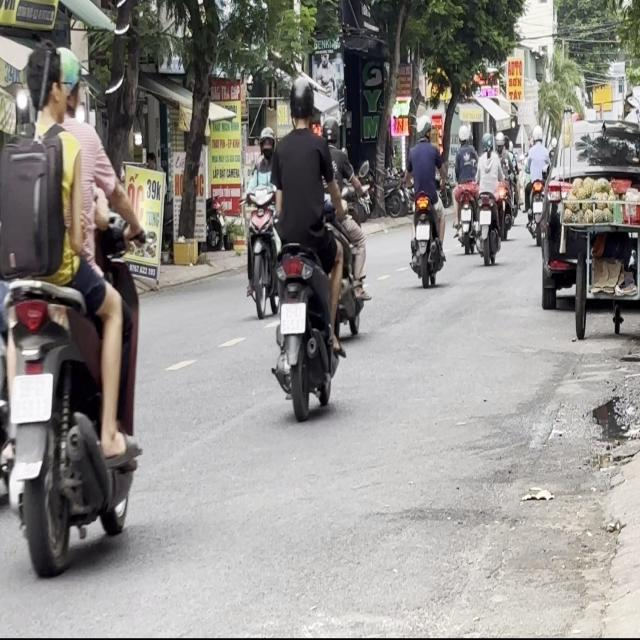helmet: (55, 46, 84, 116), (287, 73, 316, 126), (258, 124, 274, 154)
licenseplate: (0, 42, 145, 573), (268, 72, 348, 418), (241, 124, 280, 316)
motorcyclist: (22, 40, 62, 128)
nohelmet: (11, 375, 52, 423), (280, 302, 305, 334)
